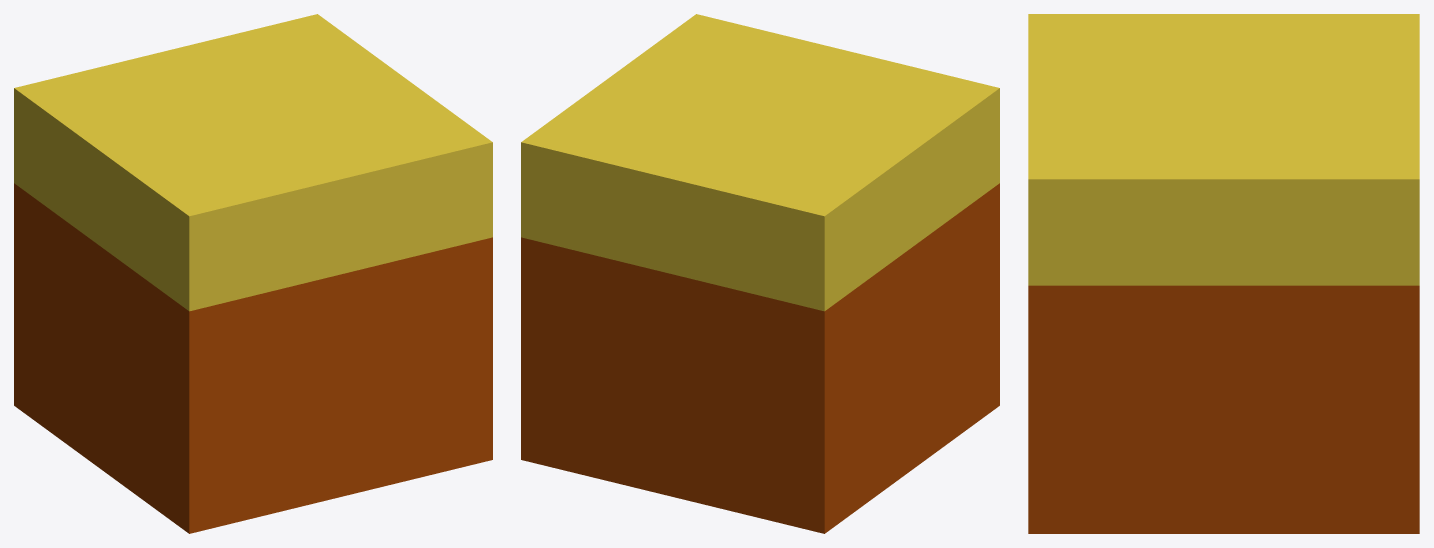
File: desertcube.glb
The picture shows the model from 3 angles, left to right: view 1: azimuth 30°, elevation 25°; view 2: azimuth 150°, elevation 25°; view 3: azimuth 270°, elevation 25°; orthographic projection. The views are drawn at different scales.
Visible parts, largest first — view 1: Desert_Cube; view 2: Desert_Cube; view 3: Desert_Cube.
Boxes of the visible parts, x1,y1,x2,y2 form: Desert_Cube: (14, 14, 492, 533); Desert_Cube: (521, 14, 999, 533); Desert_Cube: (1028, 14, 1419, 533).
Bounding box in the file's own units: 2 × 2 × 2.
